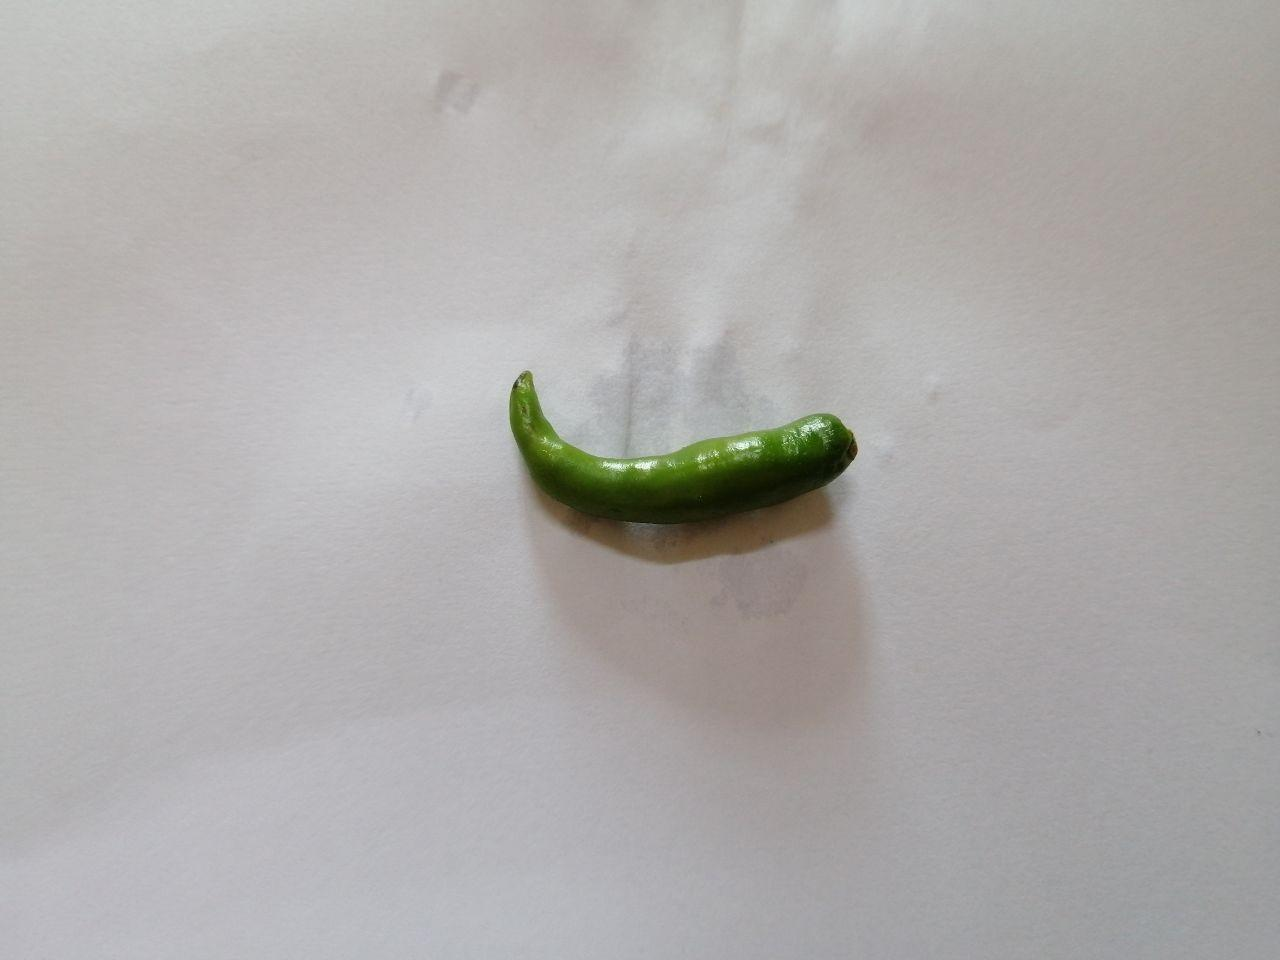lada hijau: (488, 347, 885, 558)
